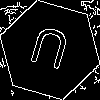U: (25, 25, 72, 79)
